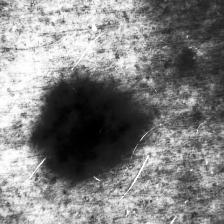Benign Marking or Mole: (36, 84, 134, 178)
